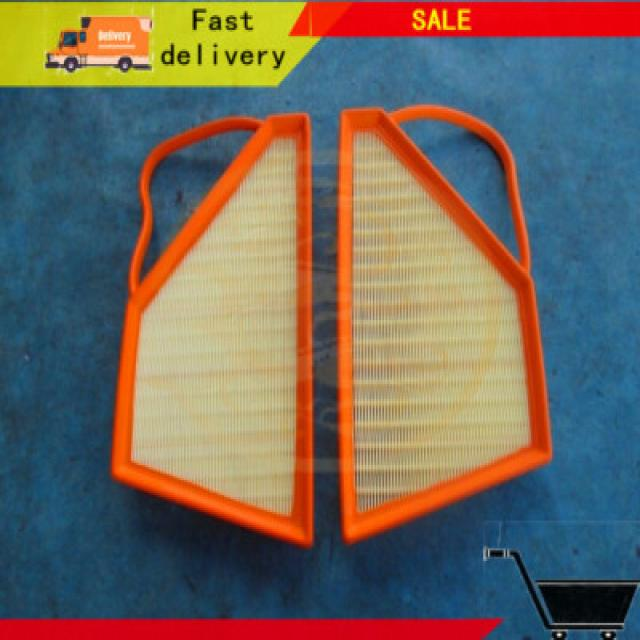air_filter: (338, 97, 552, 543), (110, 104, 316, 551)
